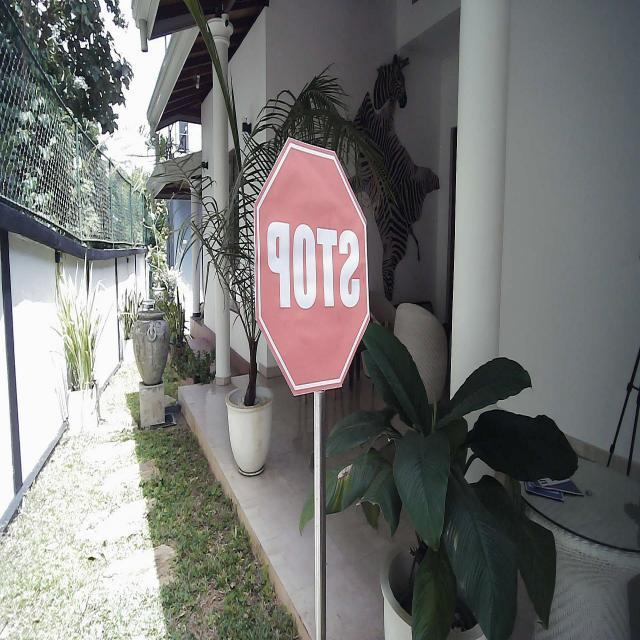stop: (252, 132, 372, 400)
